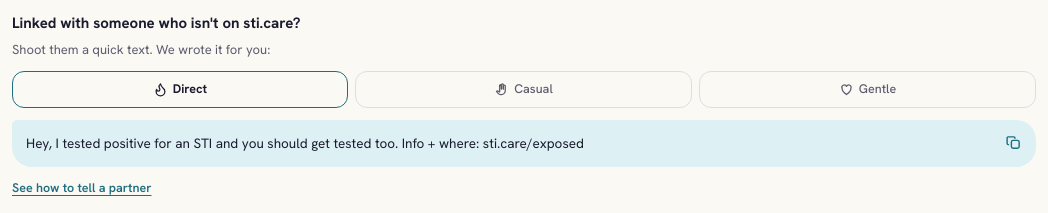
Scenario: ShareHeadsUp › defaults to the direct tone and switches message on a tone chip
Check: the text "I tested positive for an STI" is shown, box [26, 134, 584, 152]
# Switching to Gentle swaps to the no-self-disclosure wording.
Click the button "Gentle": (868, 89) [699, 71, 1036, 108]
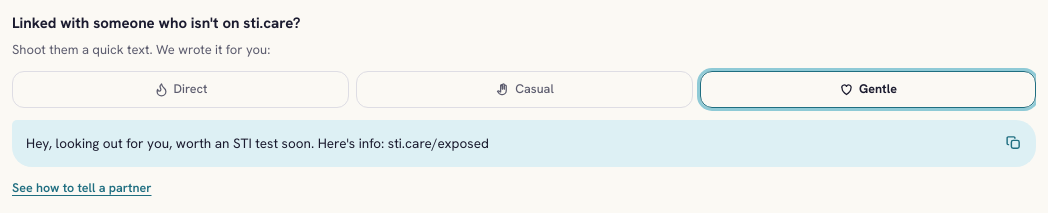
Check: the text "looking out for you" is shown, box [26, 134, 489, 152]
Check: the text "I tested positive for an STI" is gone
